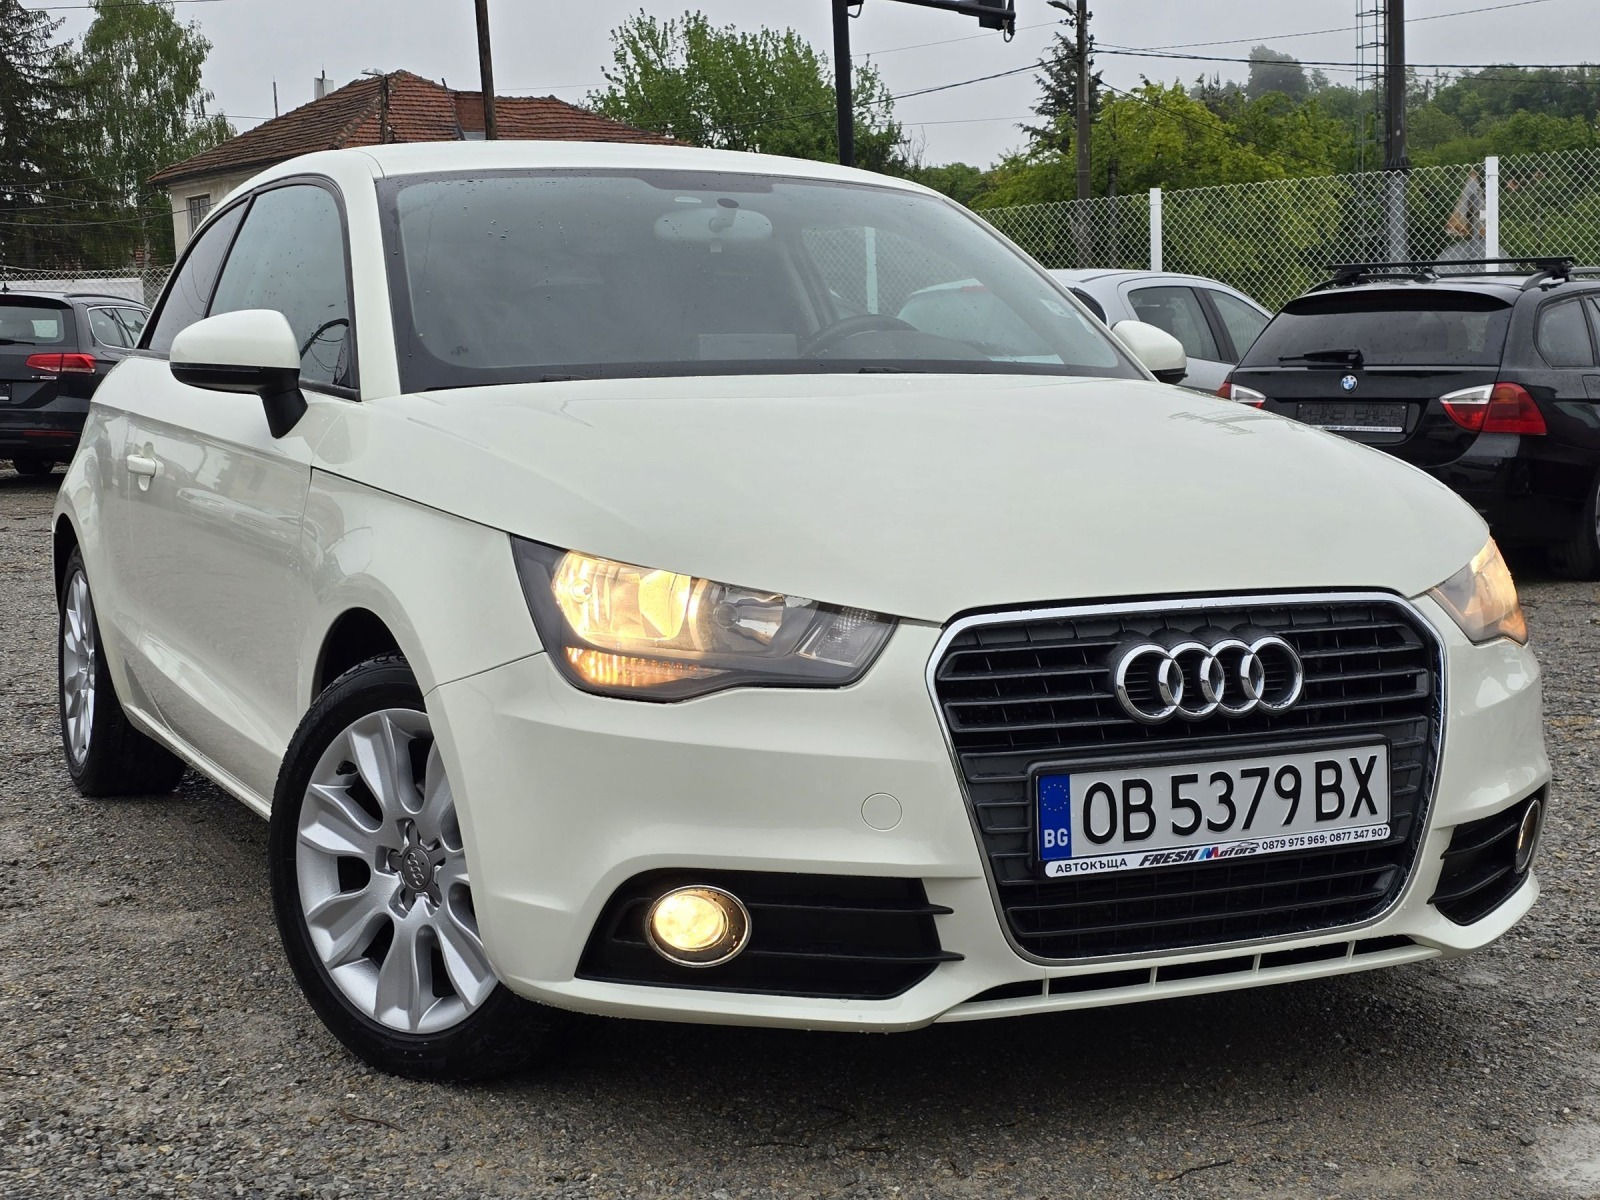registration_plate: (1043, 747, 1394, 878)
